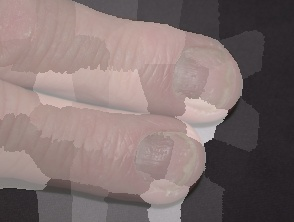Nail_psoriasis: (154, 25, 255, 132), (115, 116, 222, 207)
